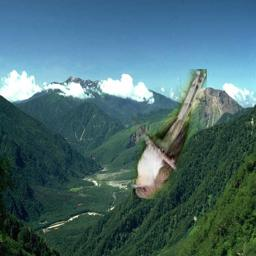Cuckoo: (131, 69, 207, 199)
